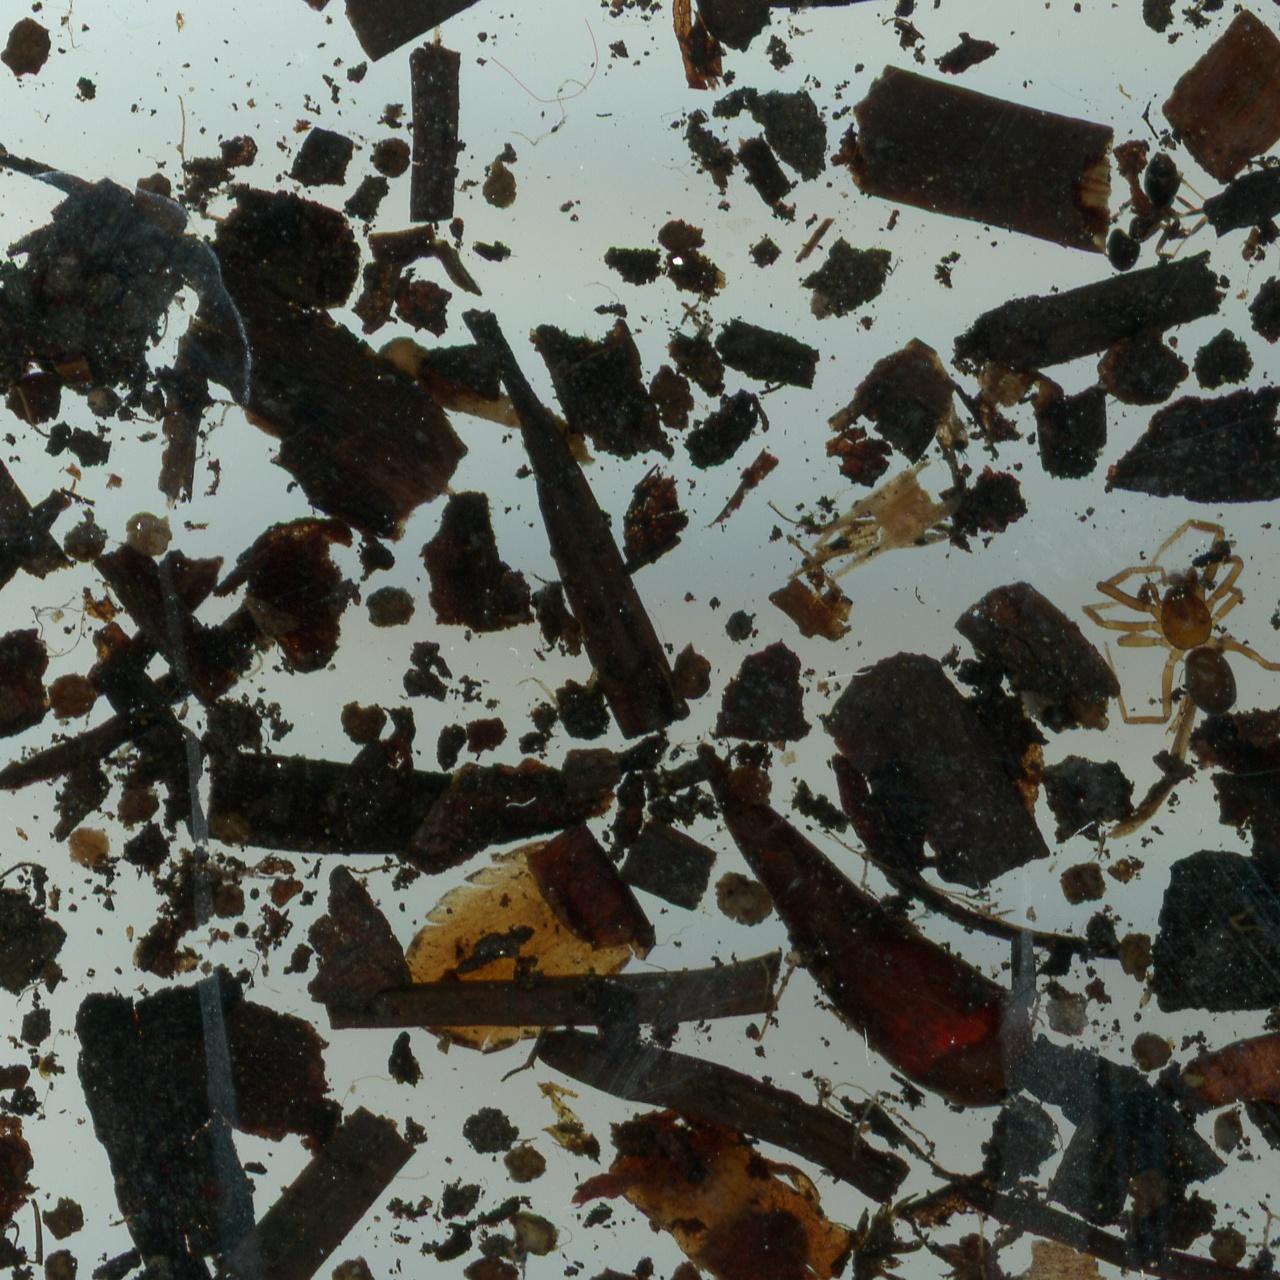arthropod: (1081, 517, 1280, 727), (1104, 152, 1213, 273)
